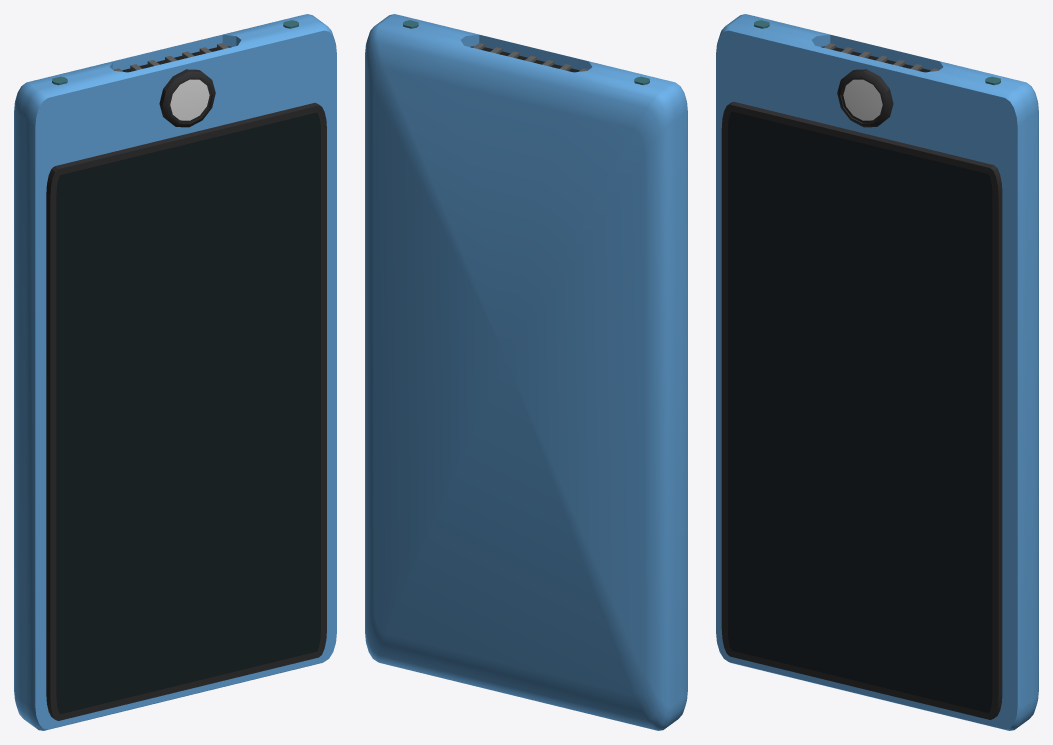
Rendered from Phone_M_02.fbx.
The picture shows the model from 3 angles, left to right: view 1: azimuth 30°, elevation 25°; view 2: azimuth 150°, elevation 25°; view 3: azimuth 330°, elevation 25°; orthographic projection.
Parts seen in each view (by area): view 1: Phone_M_02; view 2: Phone_M_02; view 3: Phone_M_02.
Boxes of the visible parts, x1=… form: Phone_M_02: x1=14, y1=14, x2=336, y2=730; Phone_M_02: x1=365, y1=14, x2=687, y2=730; Phone_M_02: x1=716, y1=14, x2=1038, y2=730.
Size of the model in its own units: 658 by 1320 by 133.
